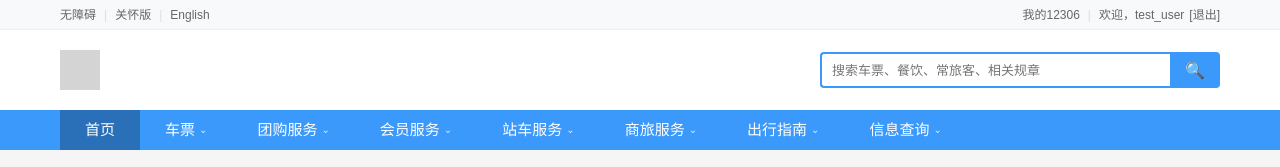
Test case: Header 组件测试 - 交互行为验证 › 点击退出清除本地状态并回到未登录视图
Step 1. Click the button "[退出]" → (1205, 14), box [1189,5,1220,22]
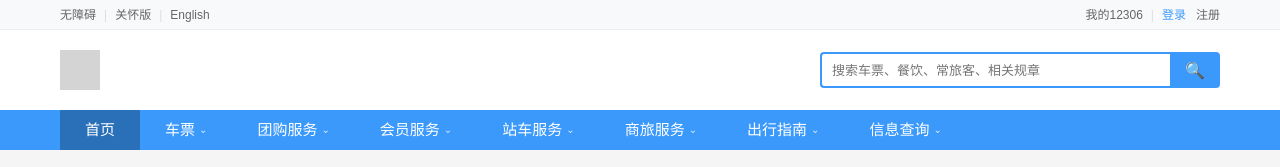
Now the link "登录" is shown, box [1162,8,1186,22]
Now the link "注册" is shown, box [1196,8,1220,22]
